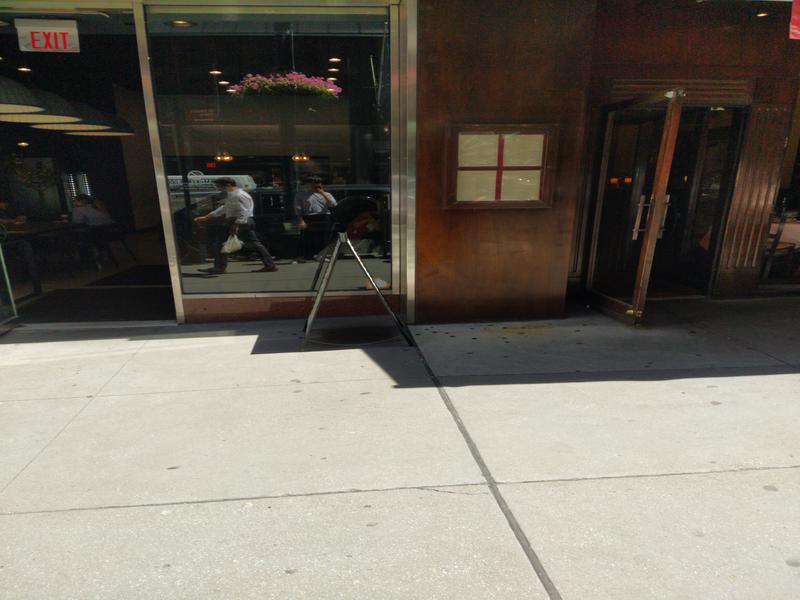door: (586, 86, 687, 334)
